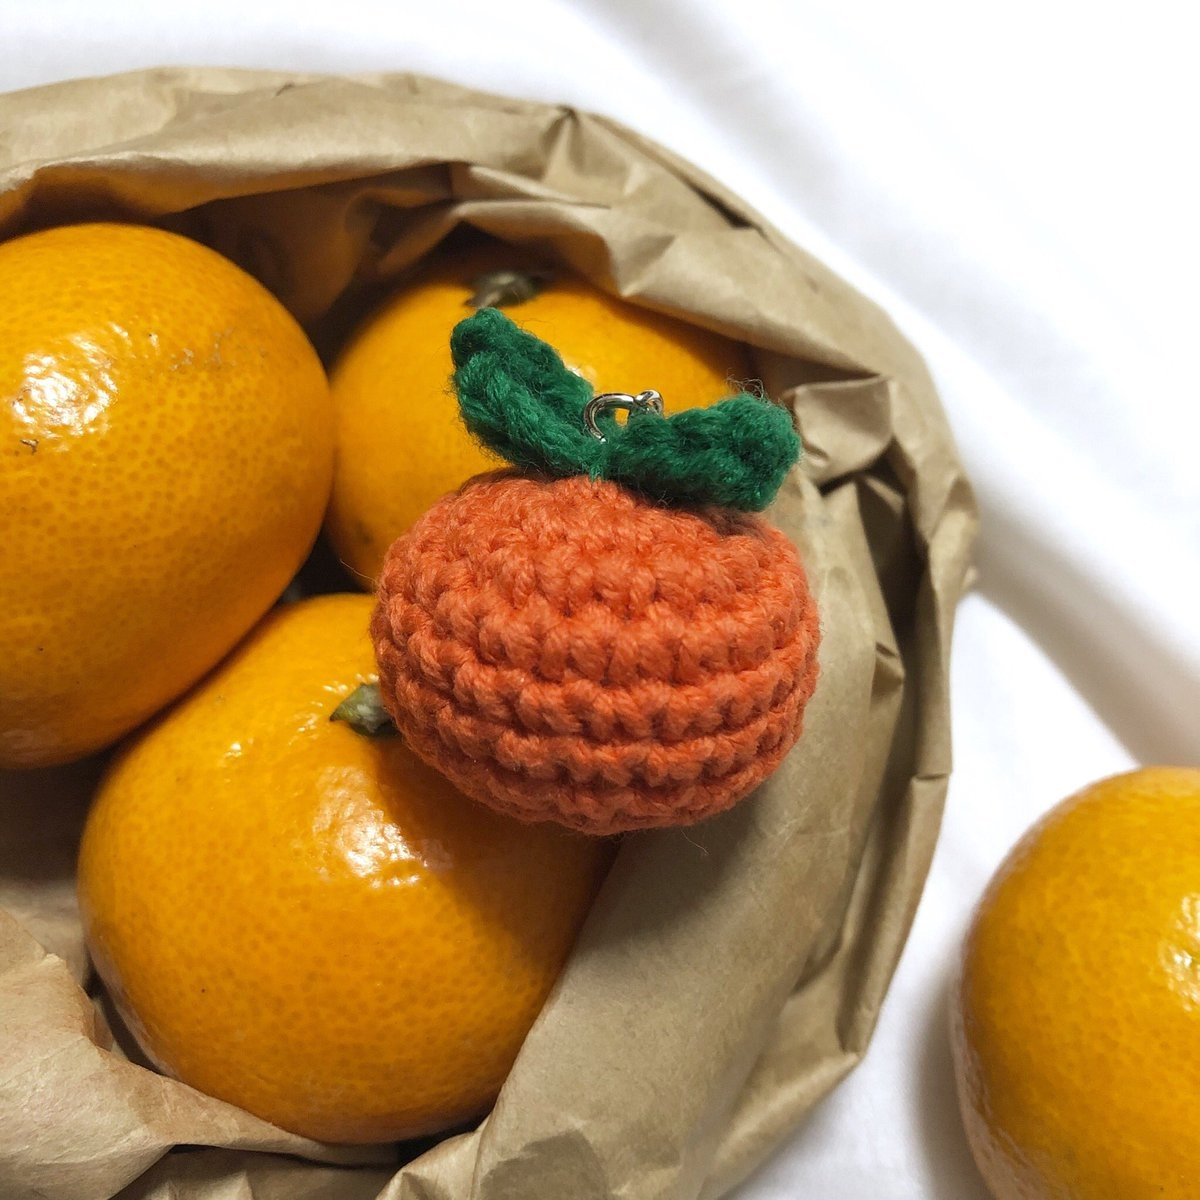mandarin: (75, 595, 616, 1148), (1, 219, 337, 767), (321, 247, 745, 591), (947, 767, 1198, 1200)
